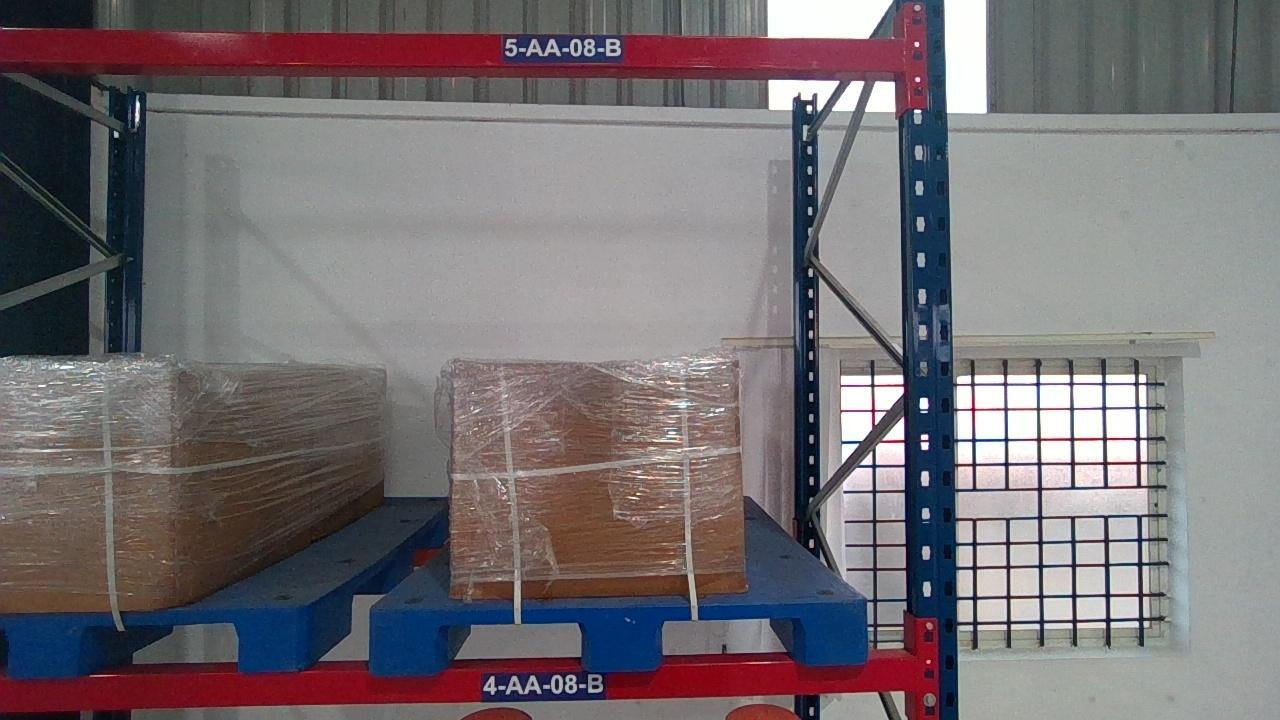h_rack: (3, 659, 919, 708), (1, 29, 908, 71)
small_pallet: (367, 601, 878, 669), (0, 608, 303, 674)
